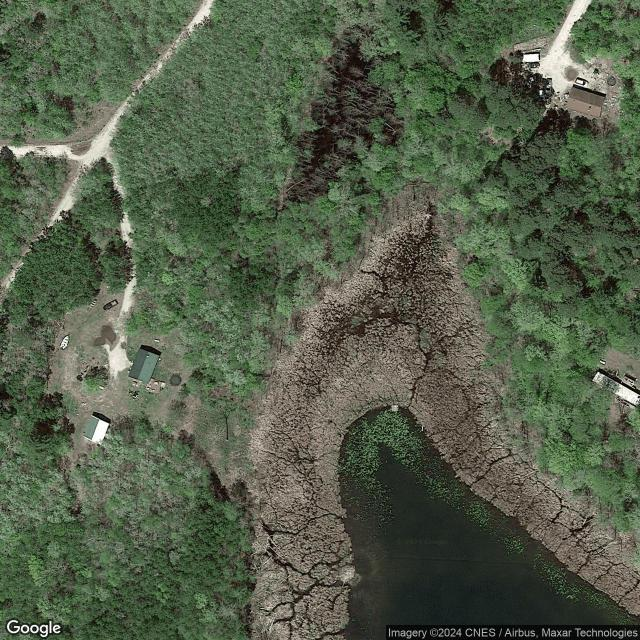Propane: (98, 384, 107, 391), (599, 359, 606, 365), (154, 339, 161, 343)
